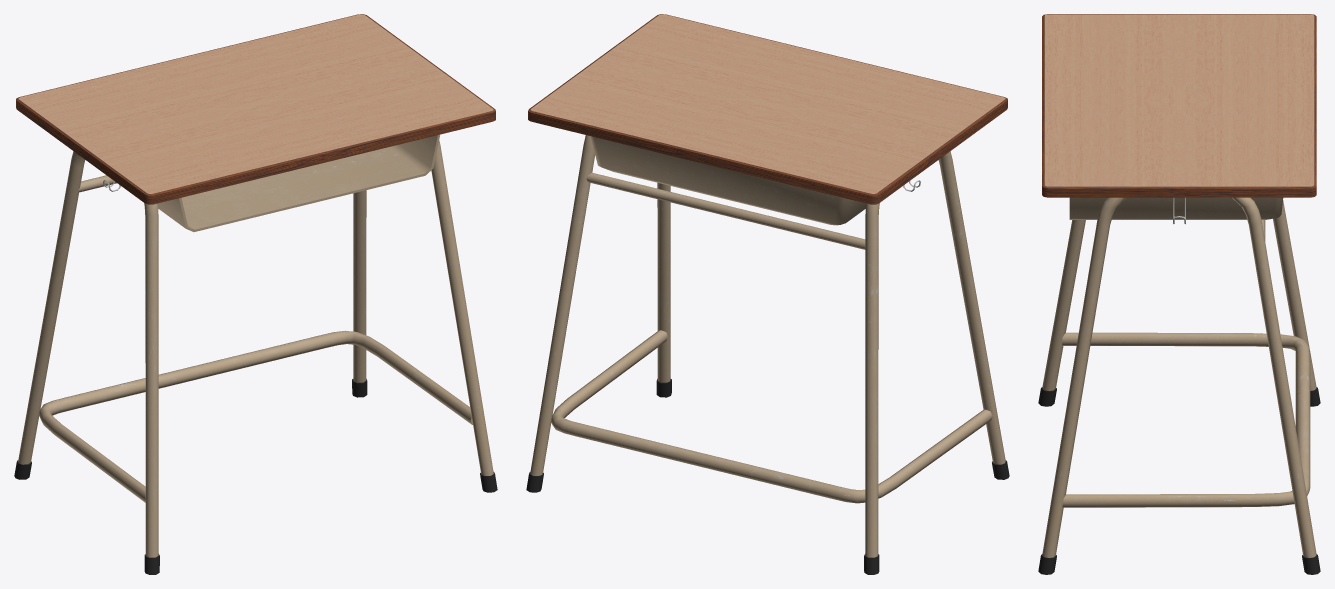
The model's file is LOW_schoolDesk.fbx.
The picture shows the model from 3 angles, left to right: view 1: azimuth 30°, elevation 25°; view 2: azimuth 150°, elevation 25°; view 3: azimuth 270°, elevation 25°; orthographic projection. The views are drawn at different scales.
Parts seen in each view (by area): view 1: LOW.schoolDesk; view 2: LOW.schoolDesk; view 3: LOW.schoolDesk.
Part boxes in pixels (x1,y1,x2,y2): LOW.schoolDesk: (14,14,497,574); LOW.schoolDesk: (526,14,1009,574); LOW.schoolDesk: (1038,14,1320,574).
Bounding box in the file's own units: 0.6997 × 0.7224 × 0.4773.
6 materials, 4 textured.
